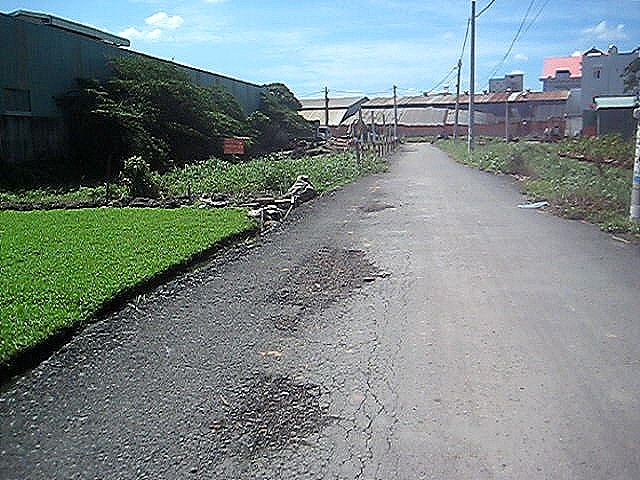hole: (211, 367, 338, 462), (263, 245, 392, 332), (356, 199, 393, 217)
